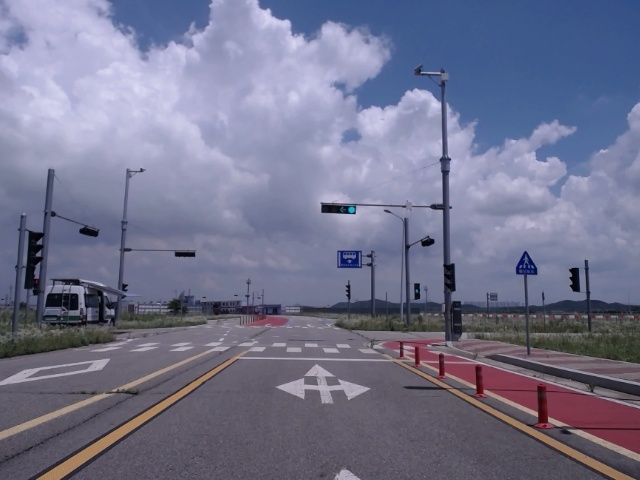all_green_4: (317, 203, 358, 215)
